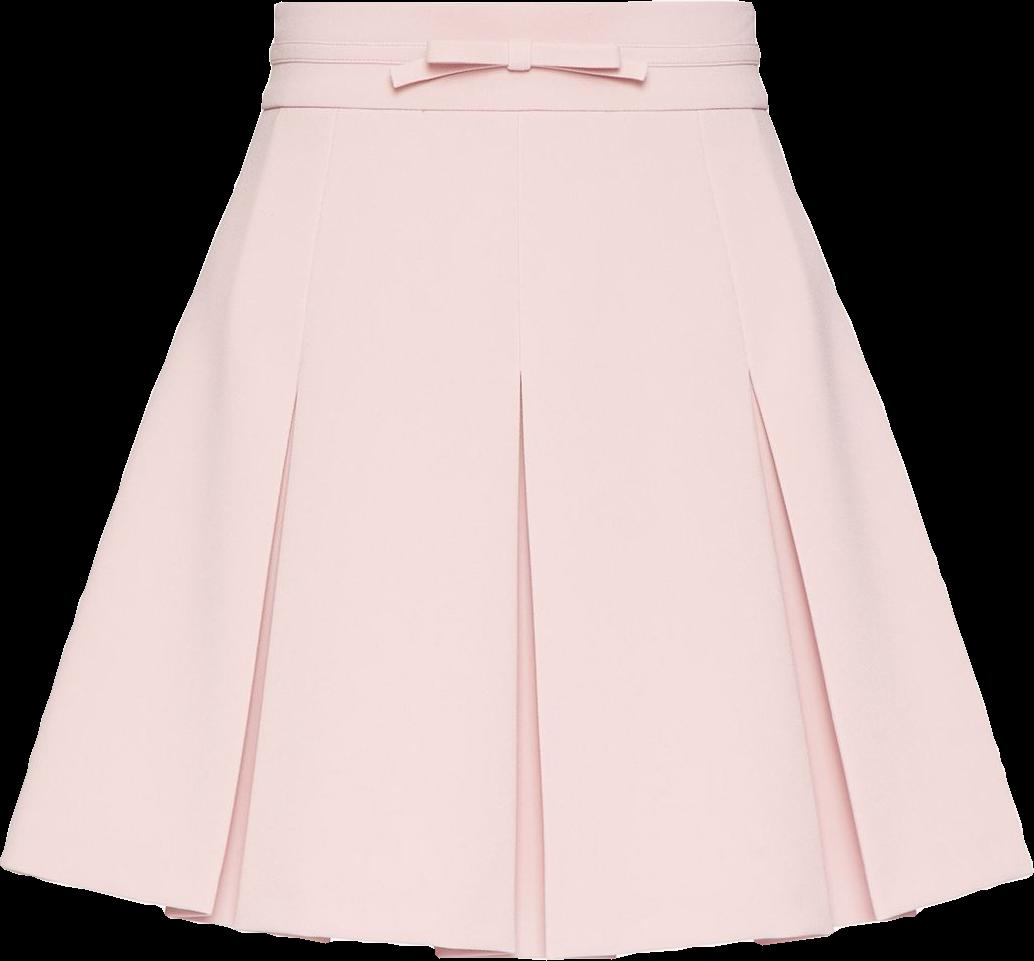Hemline: (0, 856, 1033, 960)
Waistline: (255, 100, 773, 119), (268, 0, 756, 14)
